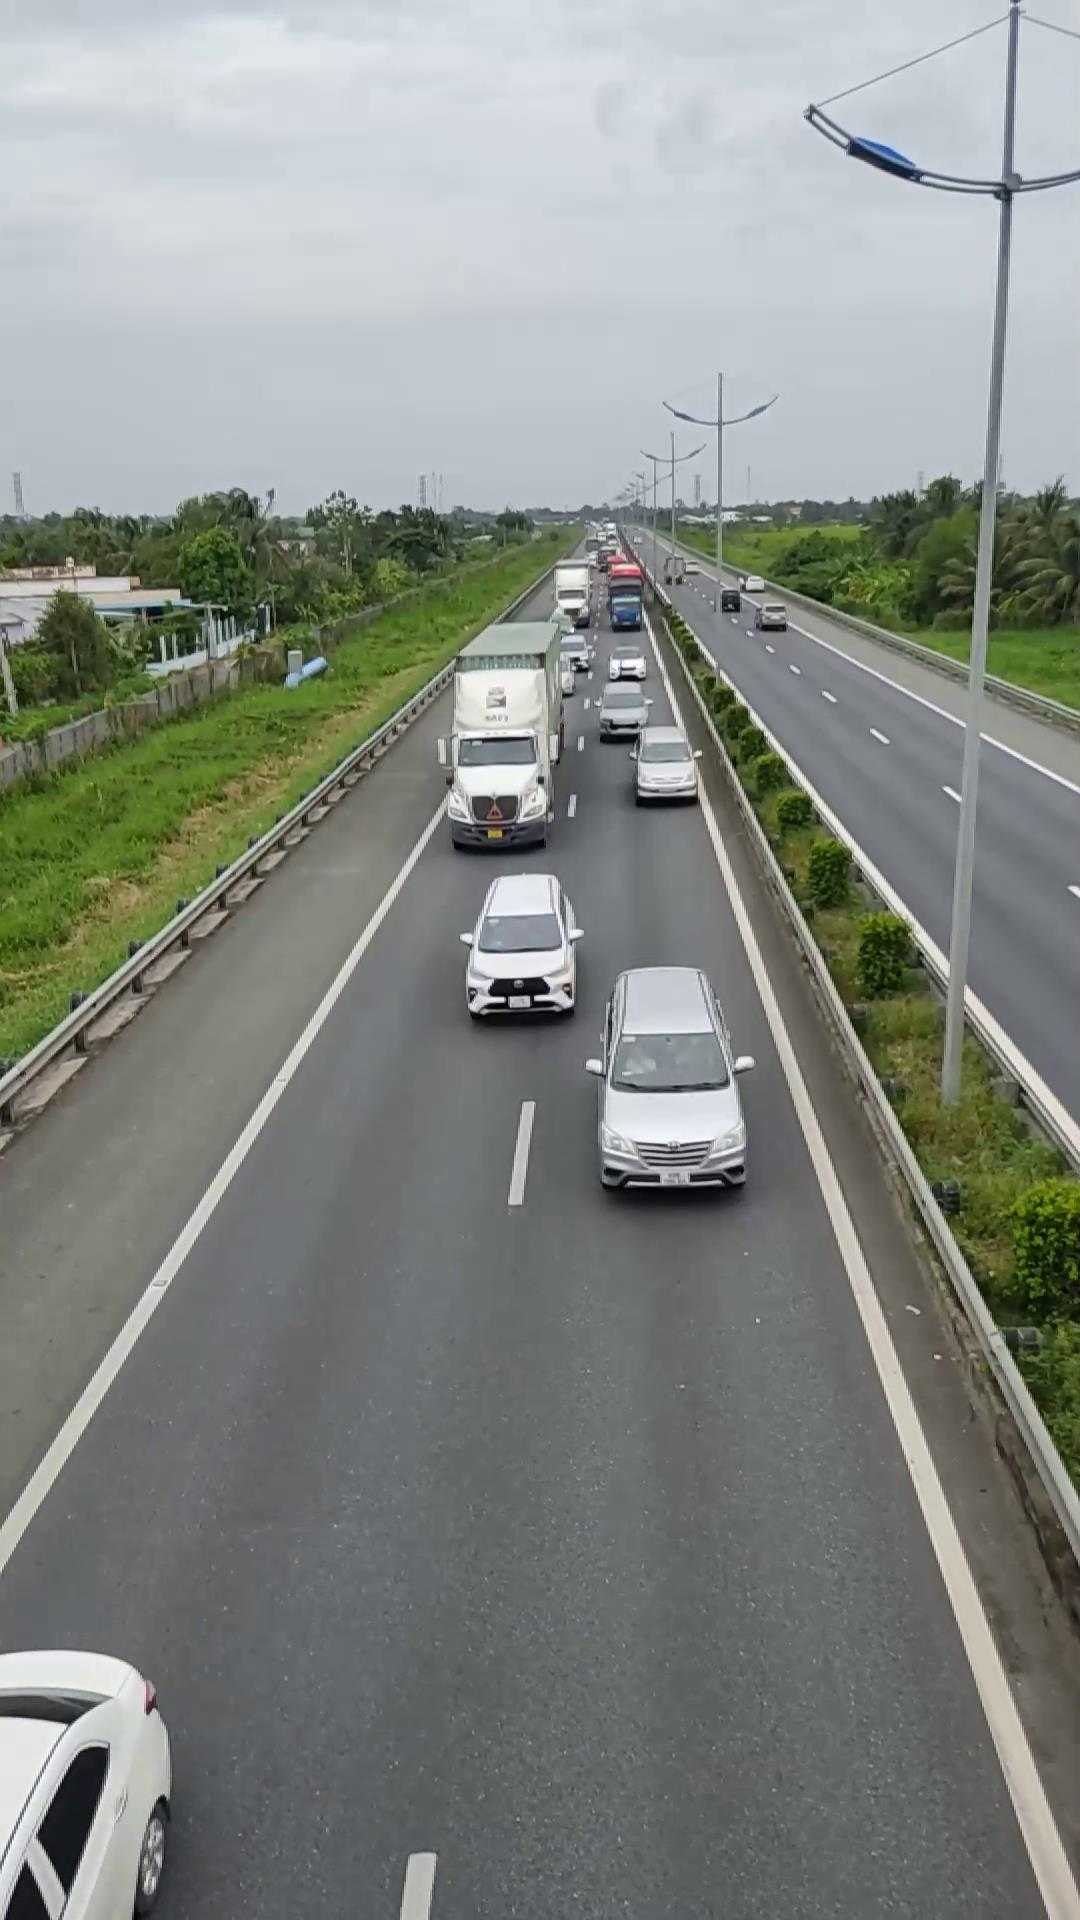car: (0, 1647, 178, 1918), (588, 963, 750, 1196), (460, 869, 584, 1020), (631, 726, 702, 804)
container: (441, 618, 570, 850)
